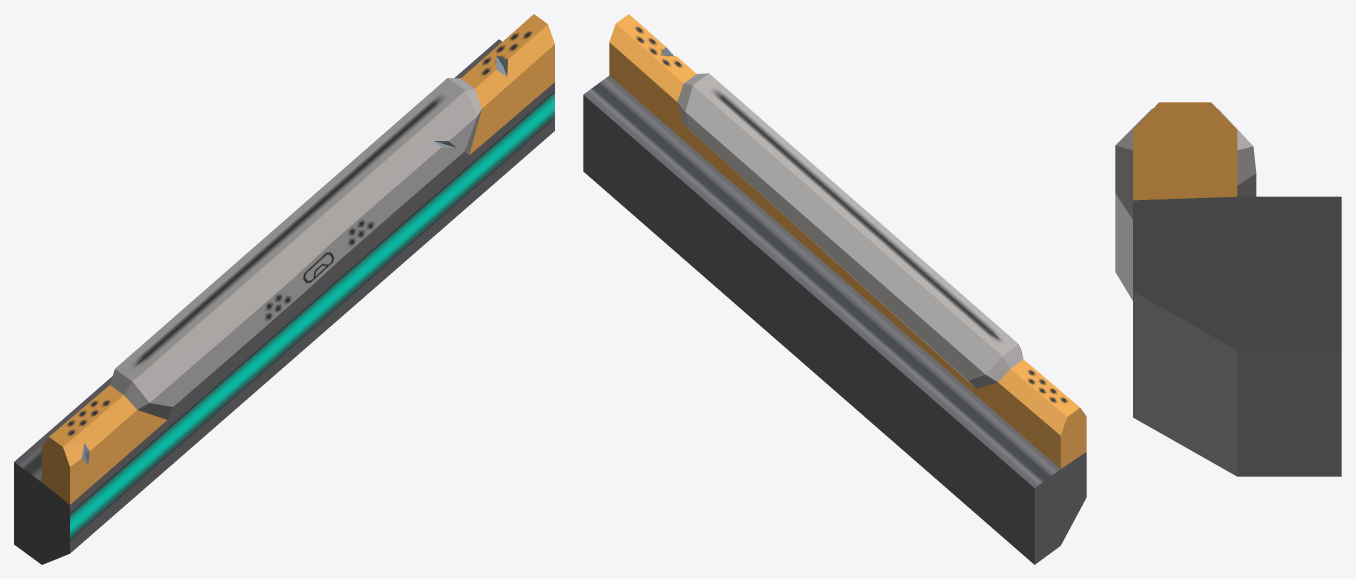
Rendered from SM_Bld_Railing_Stairs_02.fbx.
3 views of the same model, side by side, from view 1: azimuth 30°, elevation 25°; view 2: azimuth 150°, elevation 25°; view 3: azimuth 270°, elevation 25° (orthographic). The views are drawn at different scales.
Visible parts, largest first — view 1: SM_Bld_Railing_Stairs_02; view 2: SM_Bld_Railing_Stairs_02; view 3: SM_Bld_Railing_Stairs_02.
Boxes of the visible parts, x1,y1,x2,y2 form: SM_Bld_Railing_Stairs_02: [14, 14, 554, 564]; SM_Bld_Railing_Stairs_02: [583, 14, 1086, 564]; SM_Bld_Railing_Stairs_02: [1115, 102, 1341, 476].
Size of the model in its own units: 250 by 216 by 54.23.
